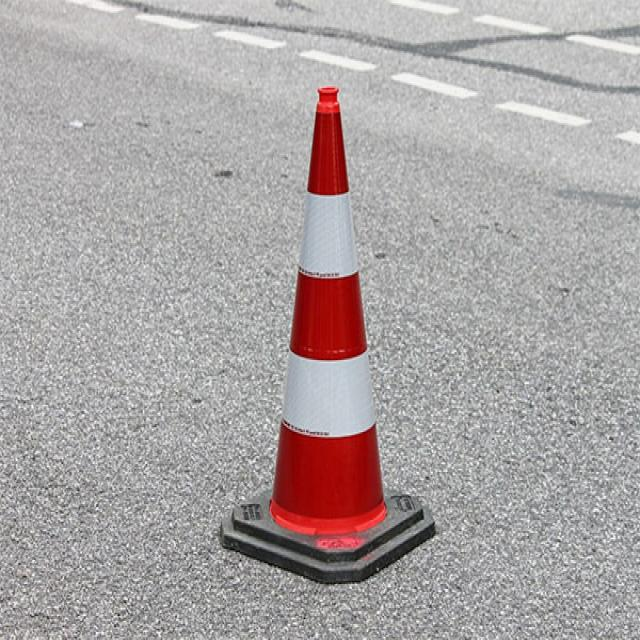Traffic Cone: (193, 57, 455, 611)
